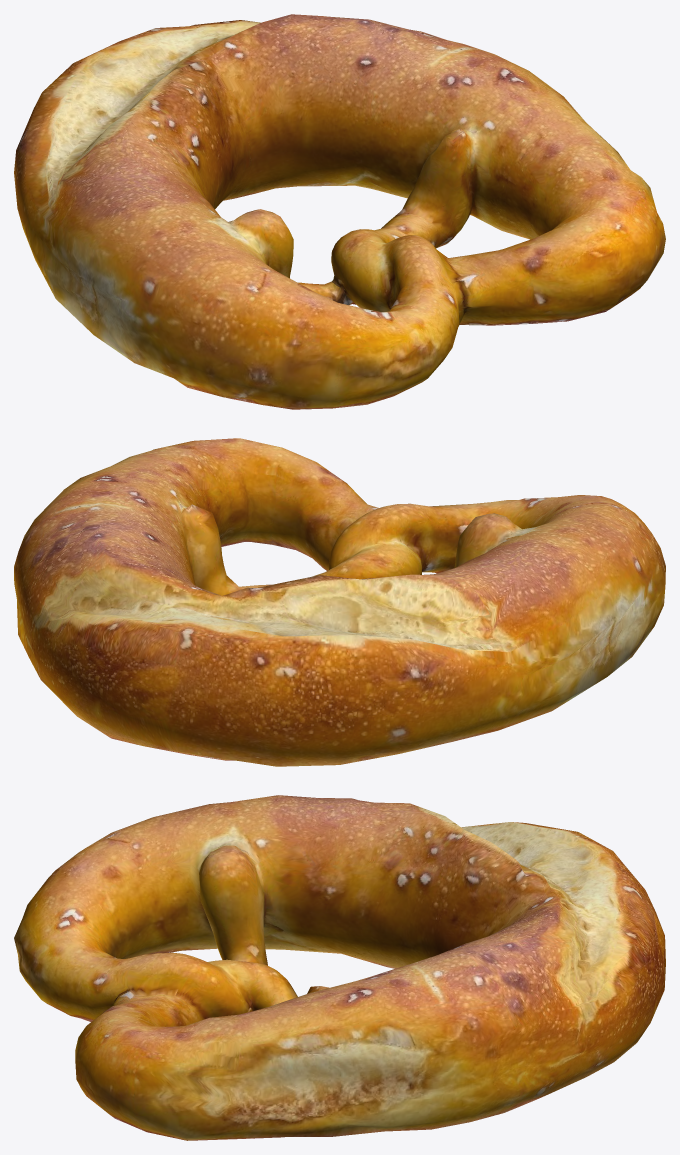
File: pretzel.glb
3 renders of one model, top to bottom at view 1: azimuth 30°, elevation 25°; view 2: azimuth 150°, elevation 25°; view 3: azimuth 270°, elevation 25°, orthographic.
Parts seen in each view (by area): view 1: Object_2; view 2: Object_2; view 3: Object_2.
Boxes of the visible parts, left/top/right/bottom form: Object_2: left=14, top=14, right=665, bottom=409; Object_2: left=14, top=438, right=665, bottom=766; Object_2: left=14, top=795, right=665, bottom=1140.
Bounding box in the file's own units: 0.1212 × 0.0348 × 0.1333.
1 material, 1 textured.
